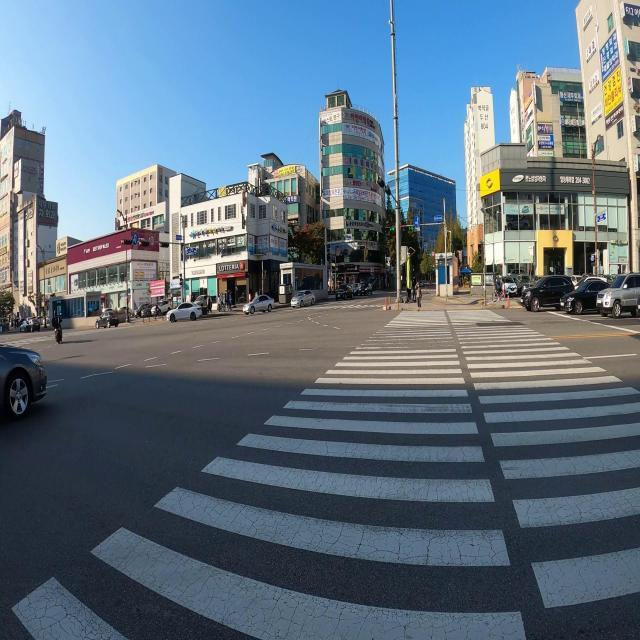crosswalk: (0, 309, 640, 639), (0, 326, 141, 347), (279, 304, 386, 311), (402, 289, 437, 291)
